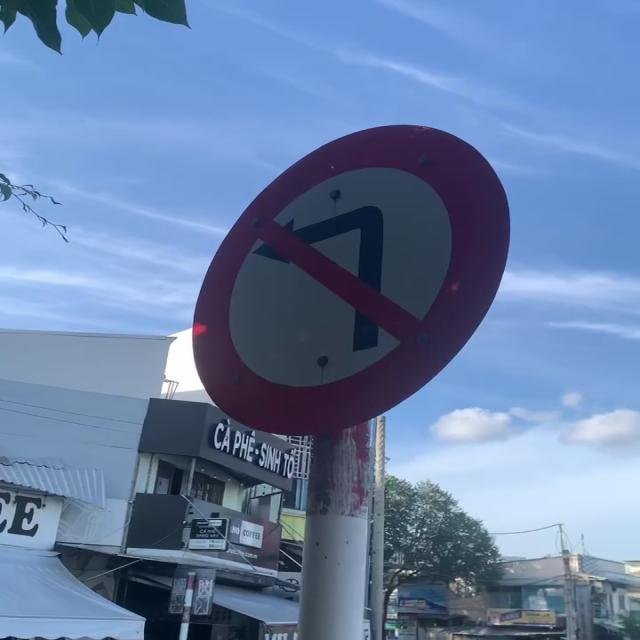Cam_Re_Trai: (187, 121, 513, 445)
